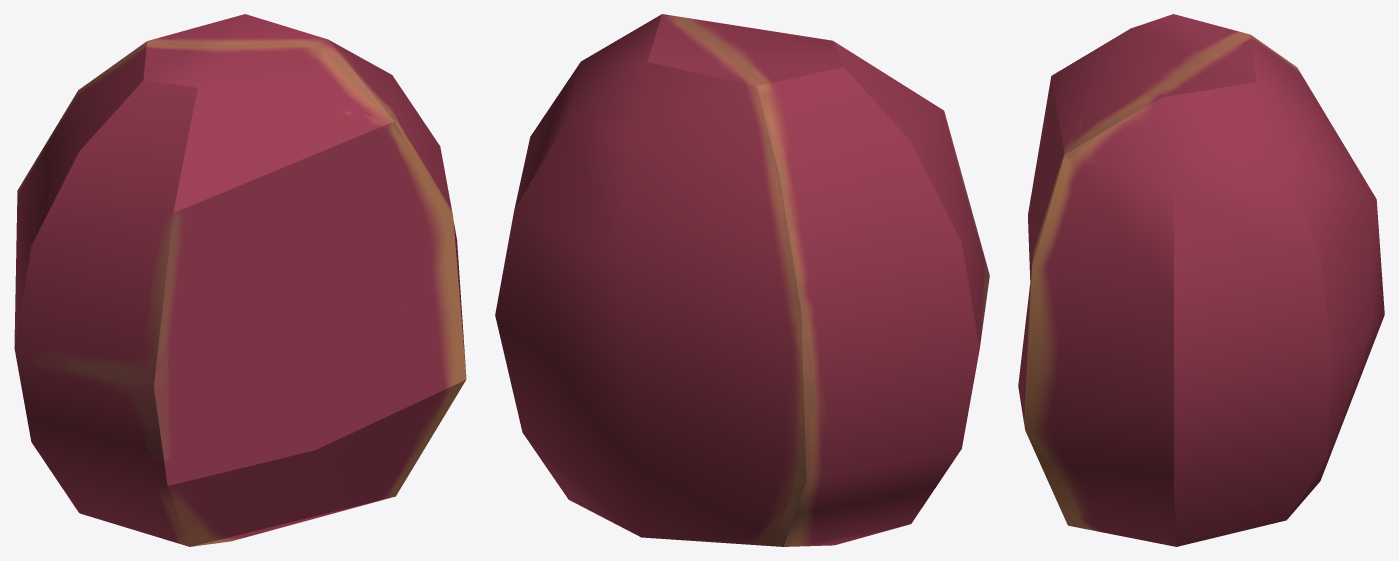
The model's file is Cola Lion.fbx.
3 views of the same model, side by side, from view 1: azimuth 30°, elevation 25°; view 2: azimuth 150°, elevation 25°; view 3: azimuth 270°, elevation 25° (orthographic). The views are drawn at different scales.
Parts seen in each view (by area): view 1: ColaLion; view 2: ColaLion; view 3: ColaLion.
Boxes of the visible parts, x1,y1,x2,y2 form: ColaLion: (14,14,466,546); ColaLion: (495,14,989,546); ColaLion: (1018,14,1384,546).
Bounding box in the file's own units: 181 × 173 × 132.
